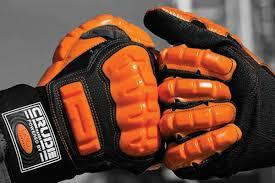gloves: (1, 15, 163, 183), (143, 6, 275, 181)
